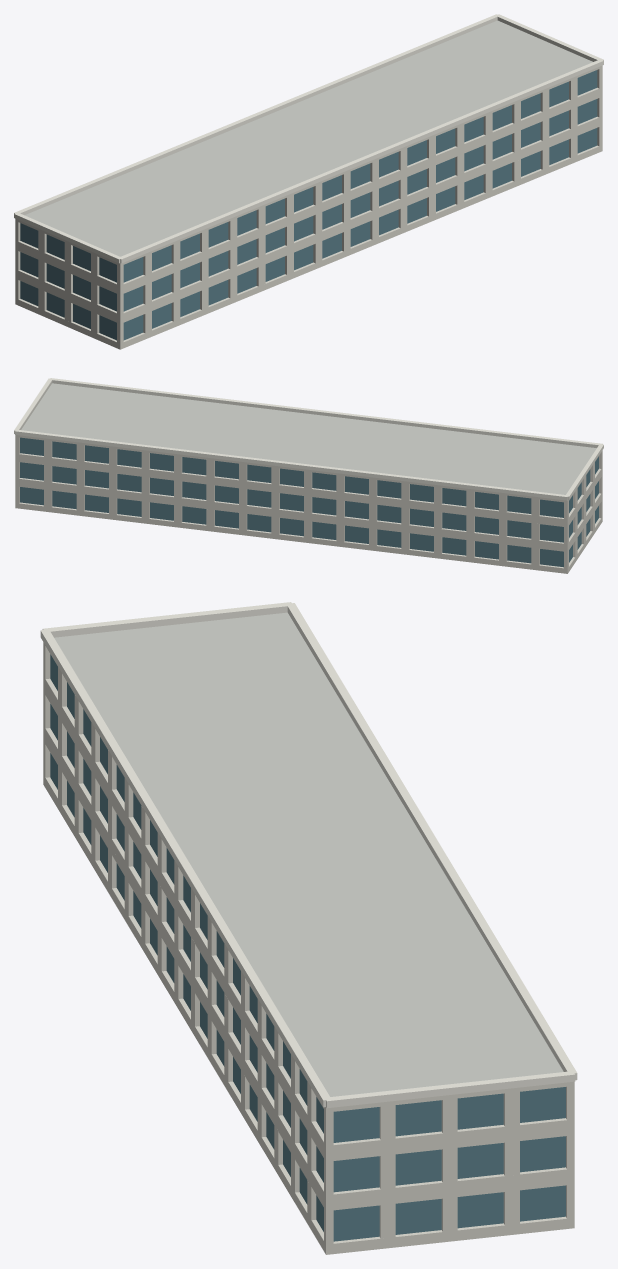
The model's file is sb_586082992.far.glb.
3 renders of one model, top to bottom at view 1: azimuth 30°, elevation 25°; view 2: azimuth 150°, elevation 25°; view 3: azimuth 270°, elevation 25°, orthographic. The views are drawn at different scales.
Visible parts, largest first — view 1: roof, wall, glass, trim; view 2: roof, wall, glass, trim; view 3: roof, wall, glass, trim.
Part boxes in pixels (x1=…): roof: x1=25, y1=20, x2=592, y2=256; wall: x1=15, y1=65, x2=602, y2=349; glass: x1=20, y1=70, x2=597, y2=340; trim: x1=14, y1=14, x2=603, y2=263; roof: x1=21, y1=383, x2=596, y2=494; wall: x1=15, y1=435, x2=602, y2=573; glass: x1=20, y1=437, x2=598, y2=567; trim: x1=14, y1=378, x2=603, y2=500; roof: x1=54, y1=612, x2=563, y2=1096; wall: x1=43, y1=642, x2=574, y2=1254; glass: x1=50, y1=654, x2=565, y2=1241; trim: x1=40, y1=602, x2=577, y2=1108.
Size of the model in its own units: 67.33 by 9.74 by 30.6.
